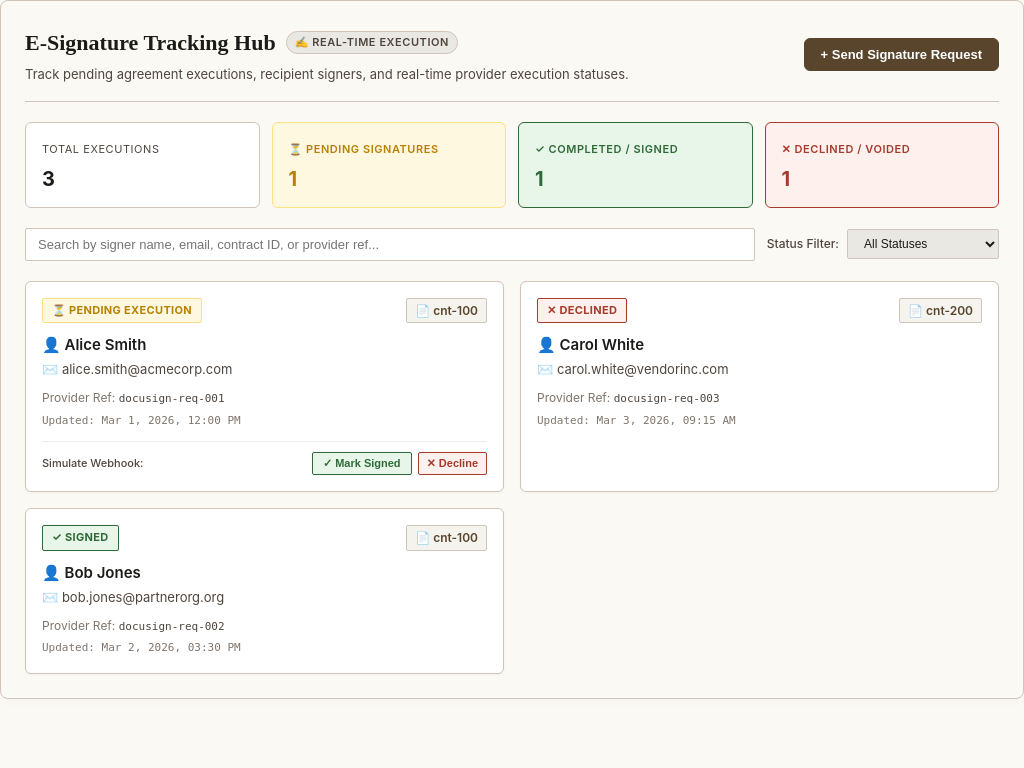
Scenario: ESignatureHub Component › filters requests list based on search input query
The width and height of the screenshot is (1024, 768).
Replace the text in the field with test id "esign-search-input" with "Bob" at (390, 244), box [25,228,755,261]
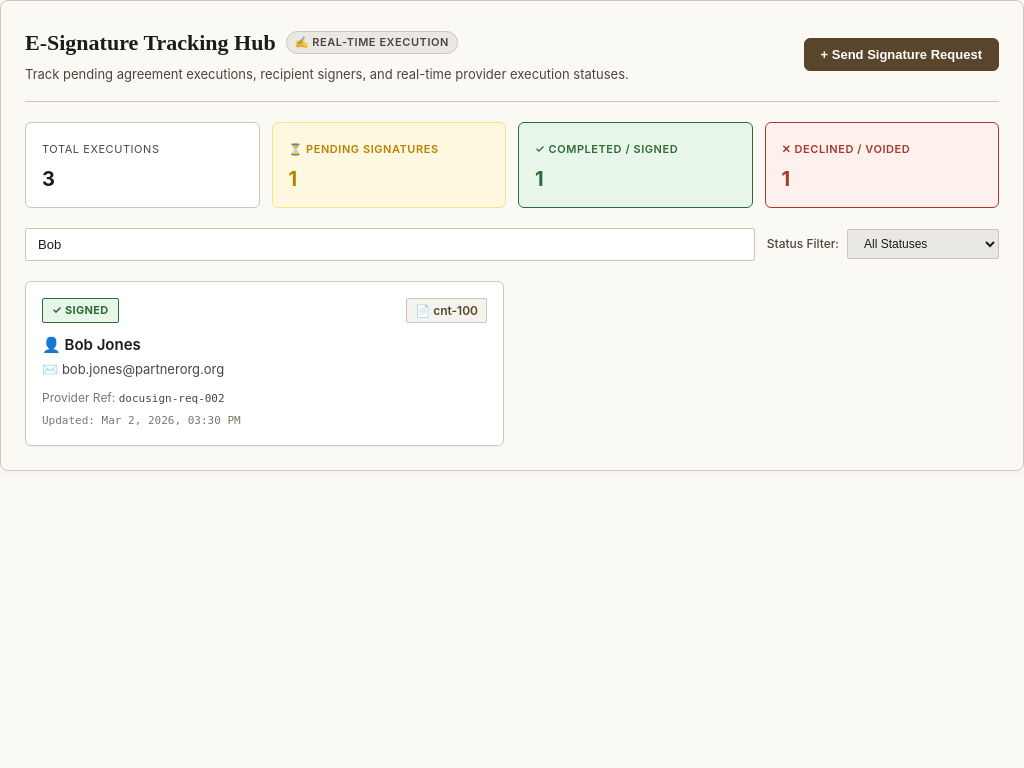
Expected: the text with test id "esign-recipient-name" reads "👤 Bob Jones", [42,335,141,354]
Now the number of elements with test id "esign-request-item" is 1, box [25,281,504,446]
